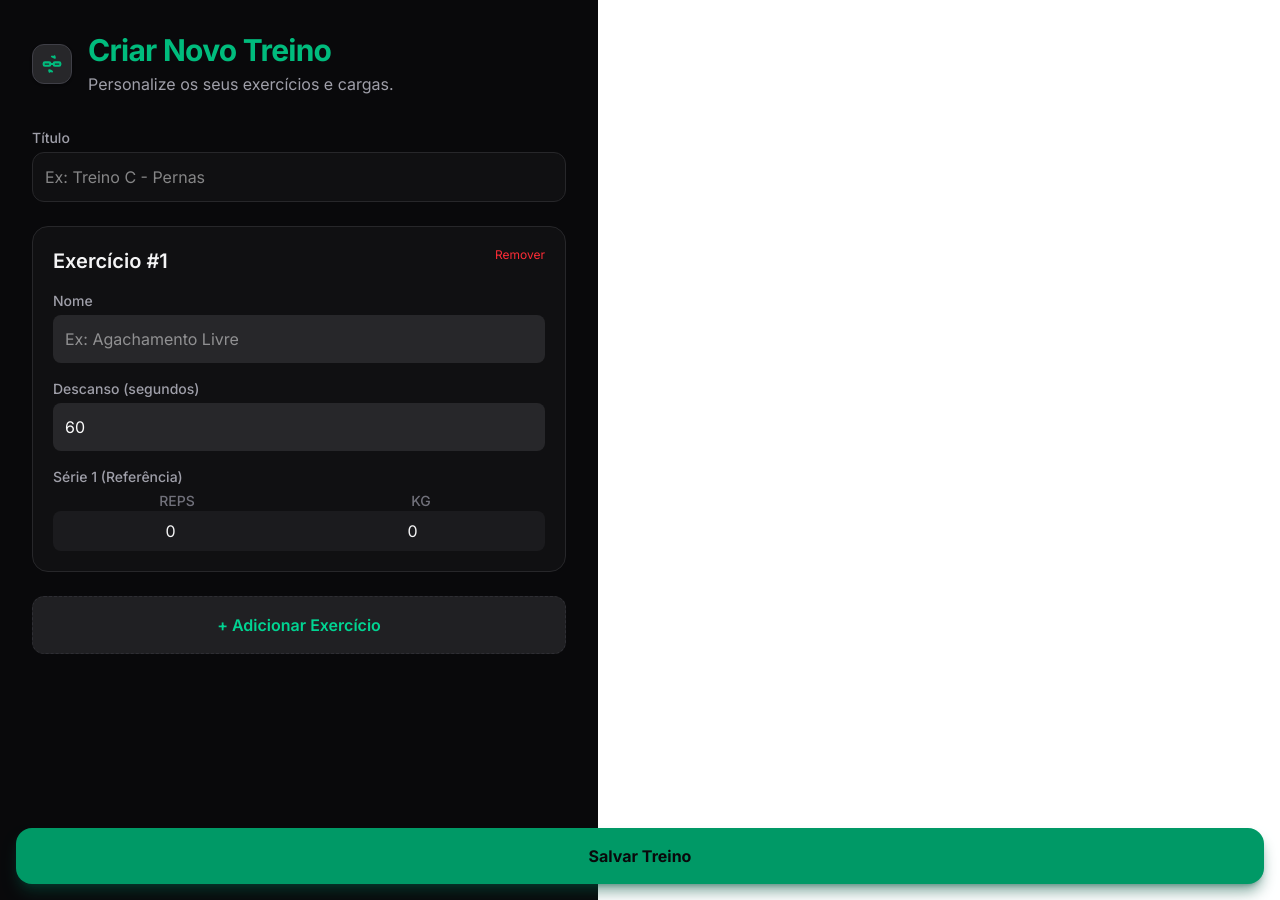
CreateWorkoutPage › deve exibir erro de validação se tentar salvar o formulário sem título
The image size is (1280, 900).
Click the button "Salvar Treino".
click(640, 856)  # box x1=16 y1=828 x2=1264 y2=884
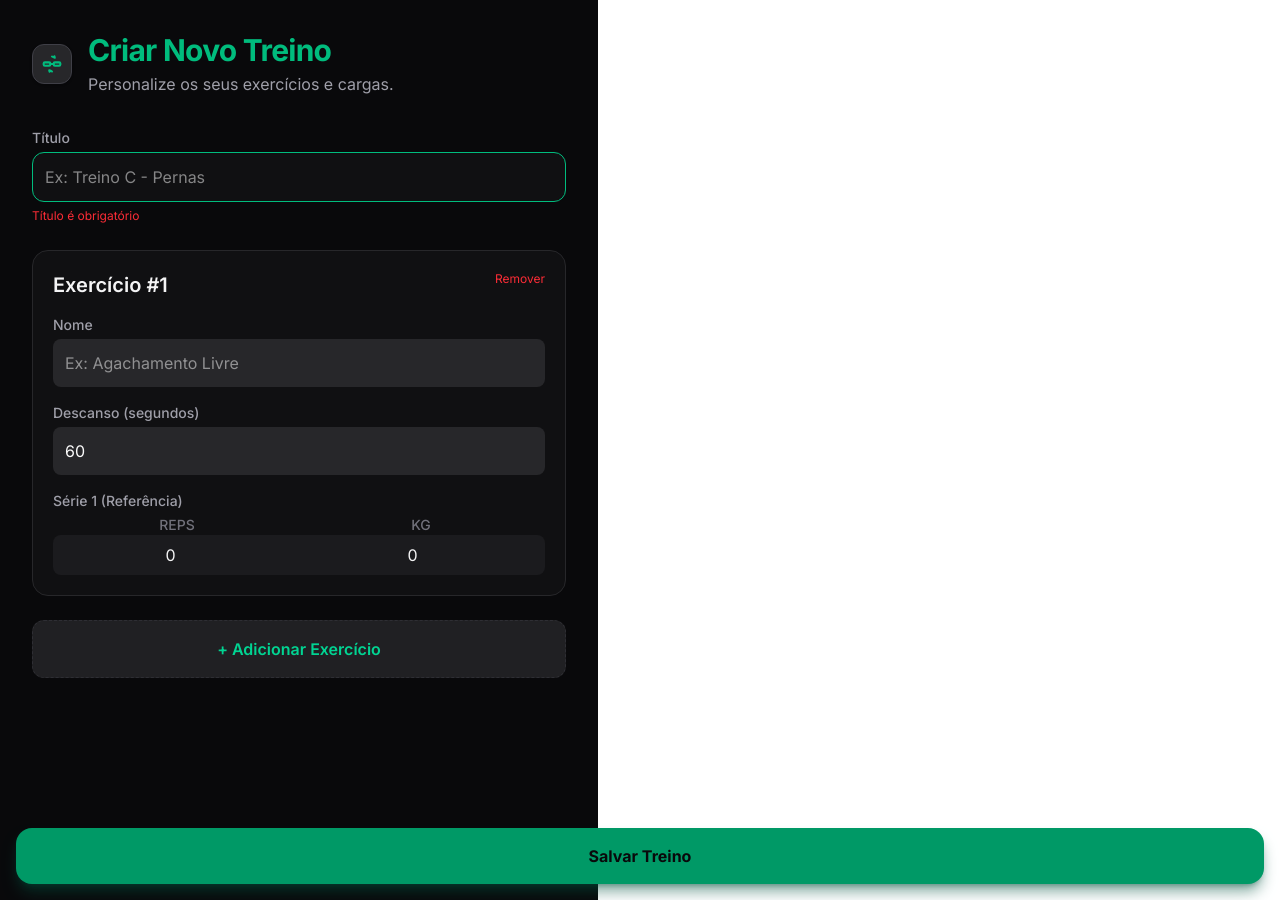
Expected: the text "Título é obrigatório" is shown, x1=32 y1=208 x2=140 y2=223
